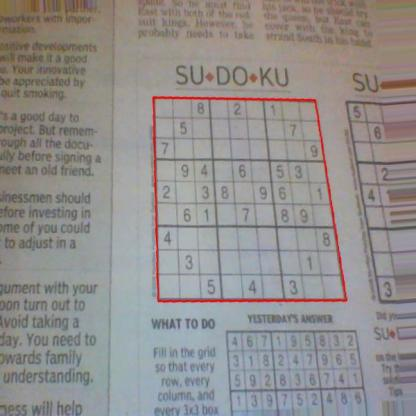sudoku: (149, 94, 353, 306)
